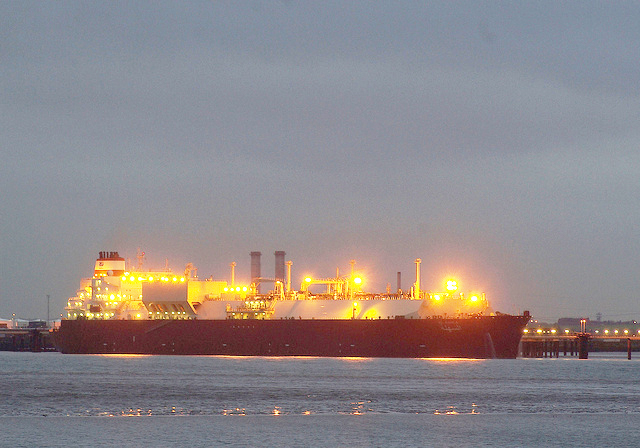LNG_ship: (55, 249, 536, 358)
